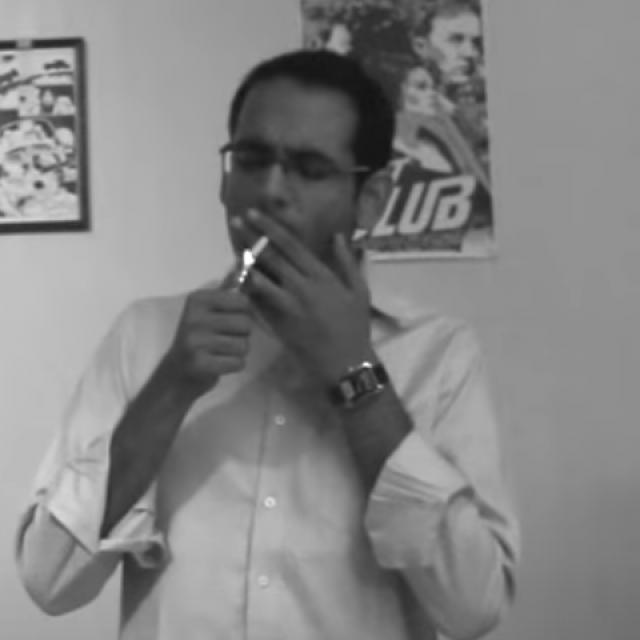smoke: (240, 230, 274, 268)
